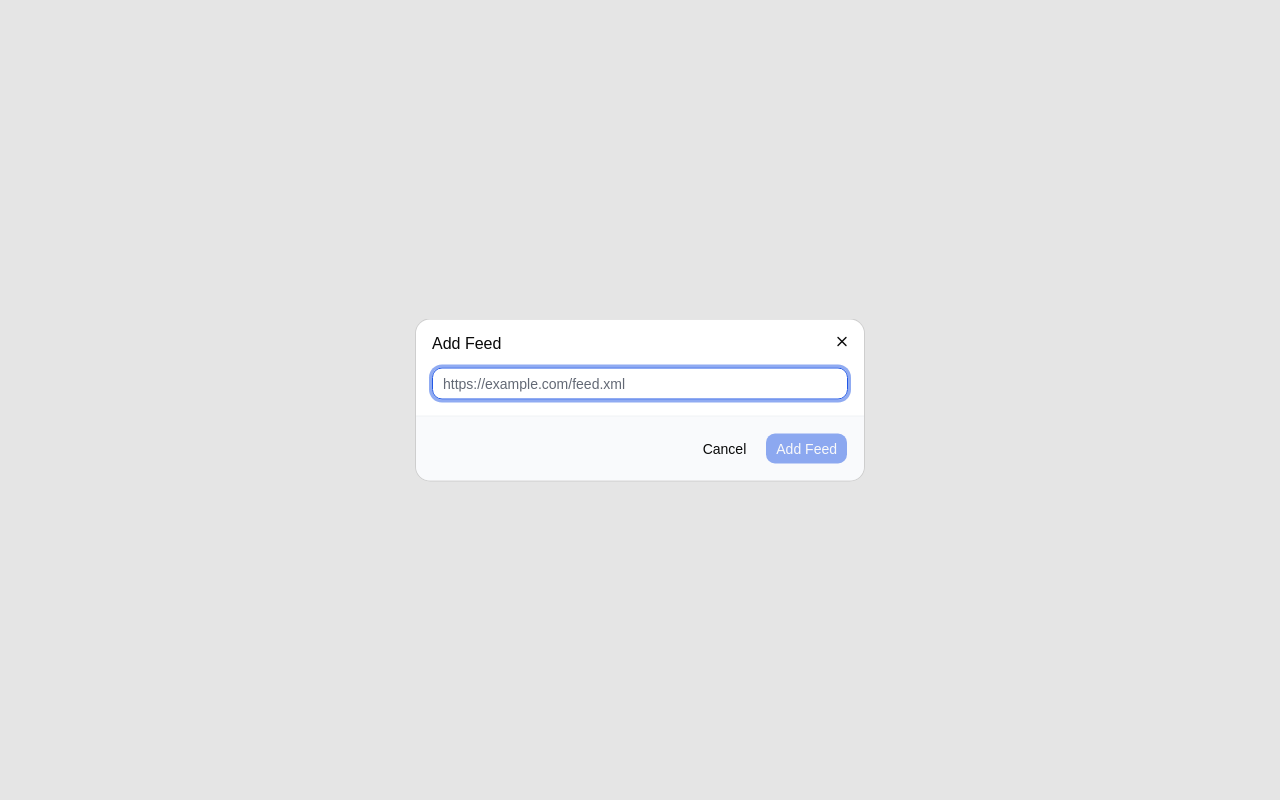
Test: AddFeedDialog › shows error message on duplicate feed
In the field with placeholder "https://example.com/feed.xml": (640, 384) [432,368,848,400], type "https://blog.com/rss"
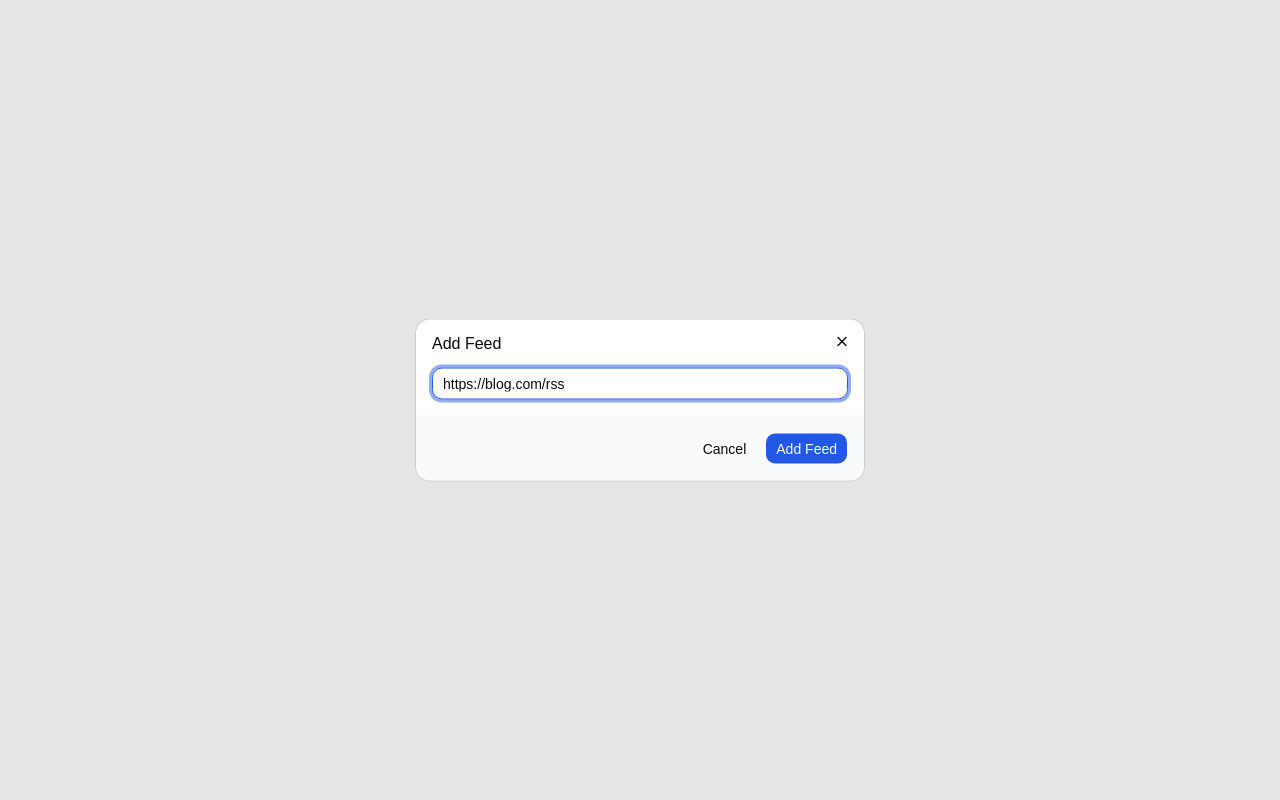
Click the button "Add Feed": (807, 448) [765,432,848,464]
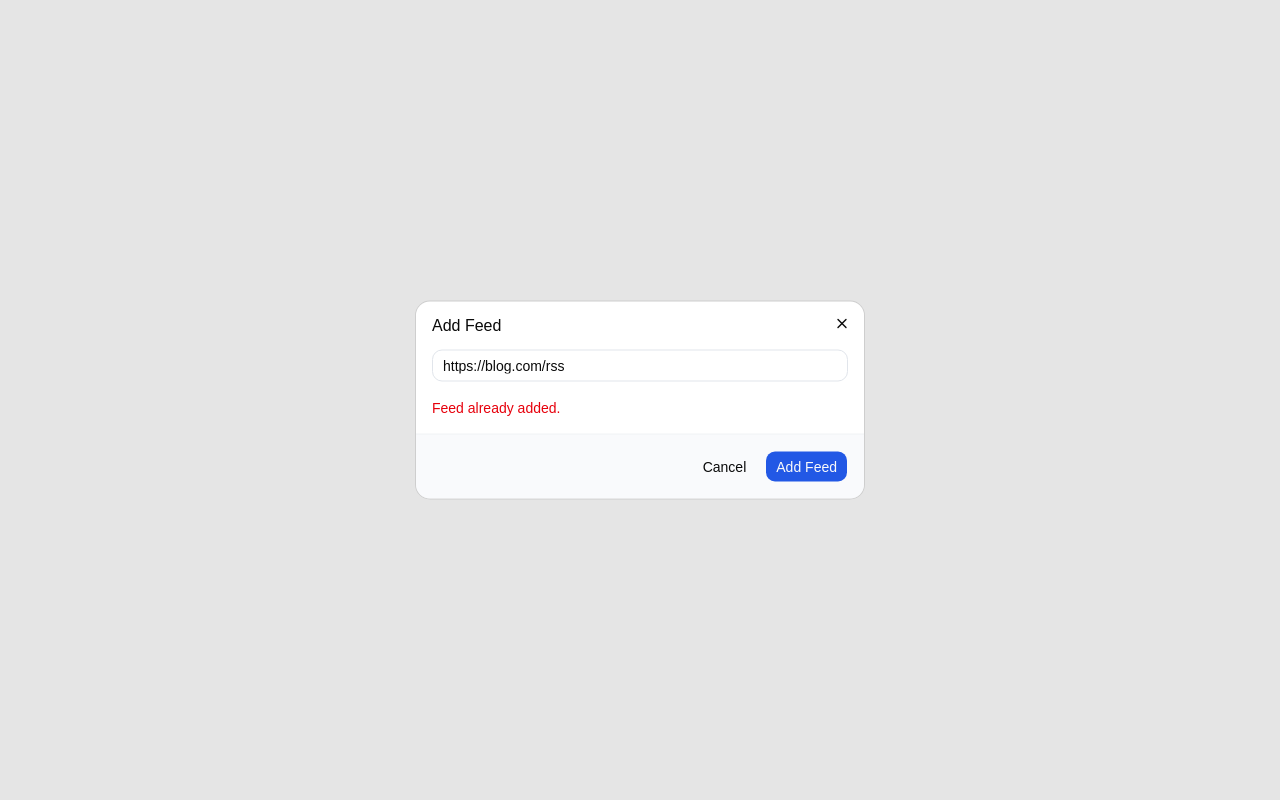
Result: the text "Feed already added." is shown at [432,400,560,416]
